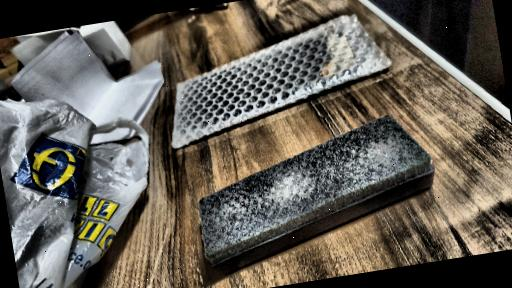borrador: (199, 115, 434, 273)
